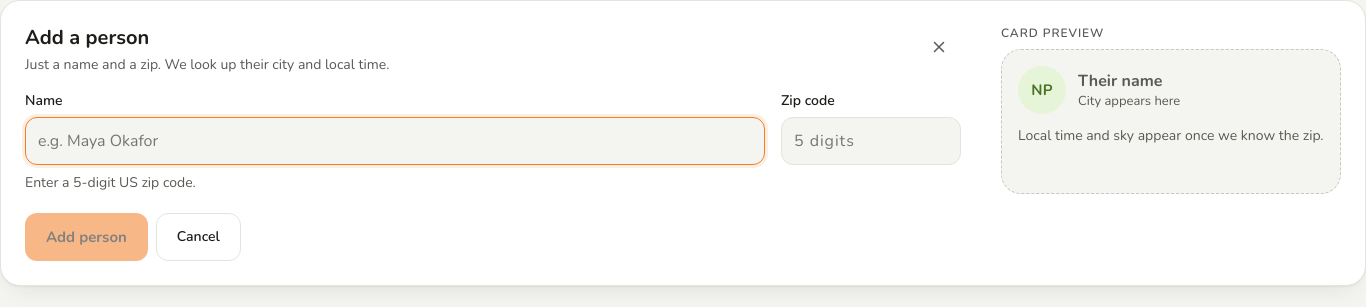
it: AddSheet › a short zip says how many digits are missing
This screenshot has width=1366, height=307.
Type "021" into the field labelled "Zip code" at (871, 141), box [781, 117, 961, 165]
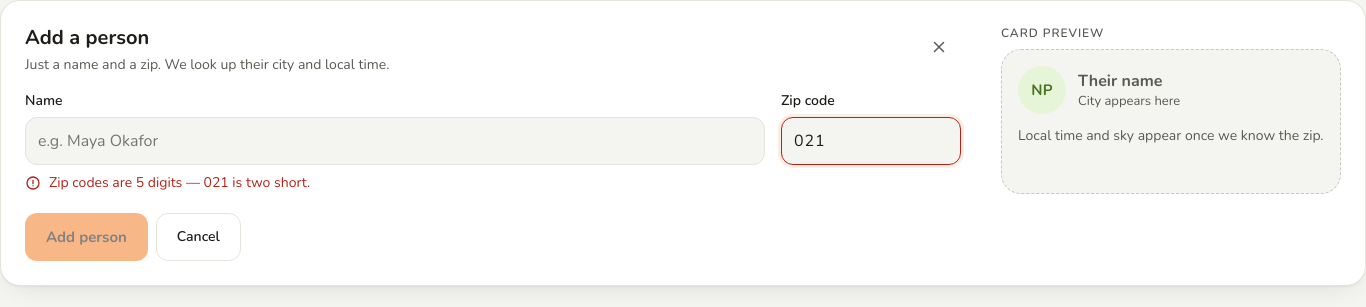
expect the element showing "Zip codes are 5 digits — 021 is two short." is shown: met, box [25, 173, 310, 192]
